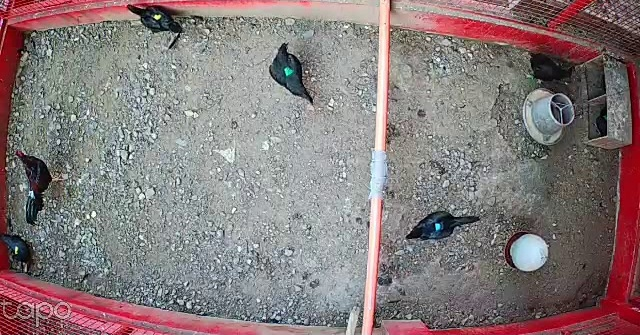Chicken: (268, 39, 315, 105), (403, 207, 483, 245), (126, 1, 186, 36), (523, 48, 575, 88), (1, 230, 38, 268)
Rooster: (16, 146, 66, 228)
Saddle_Color_Blue: (435, 223, 443, 232)
Saddle_Color_Yellow: (154, 14, 161, 20)
